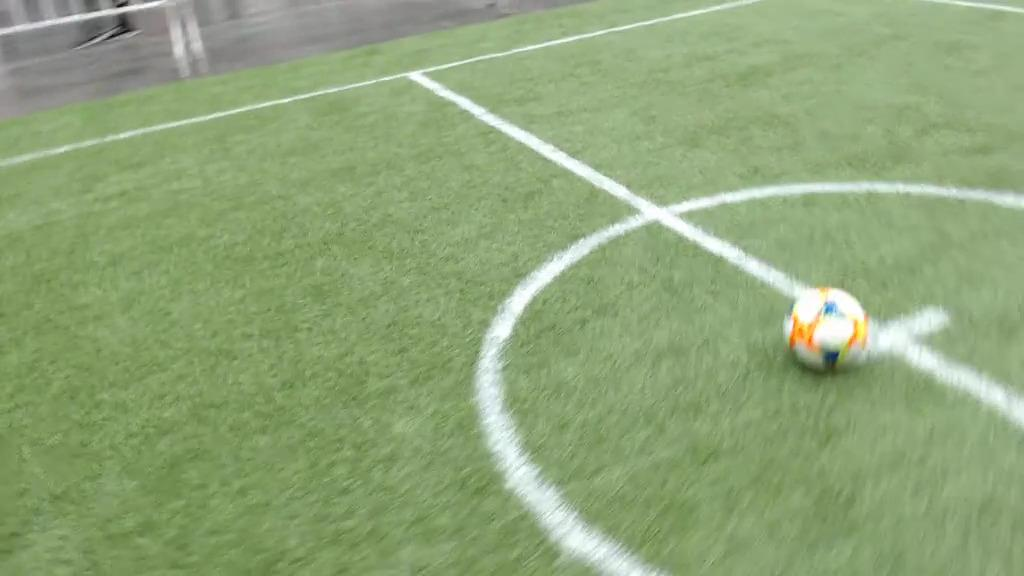ball: (787, 284, 868, 374)
